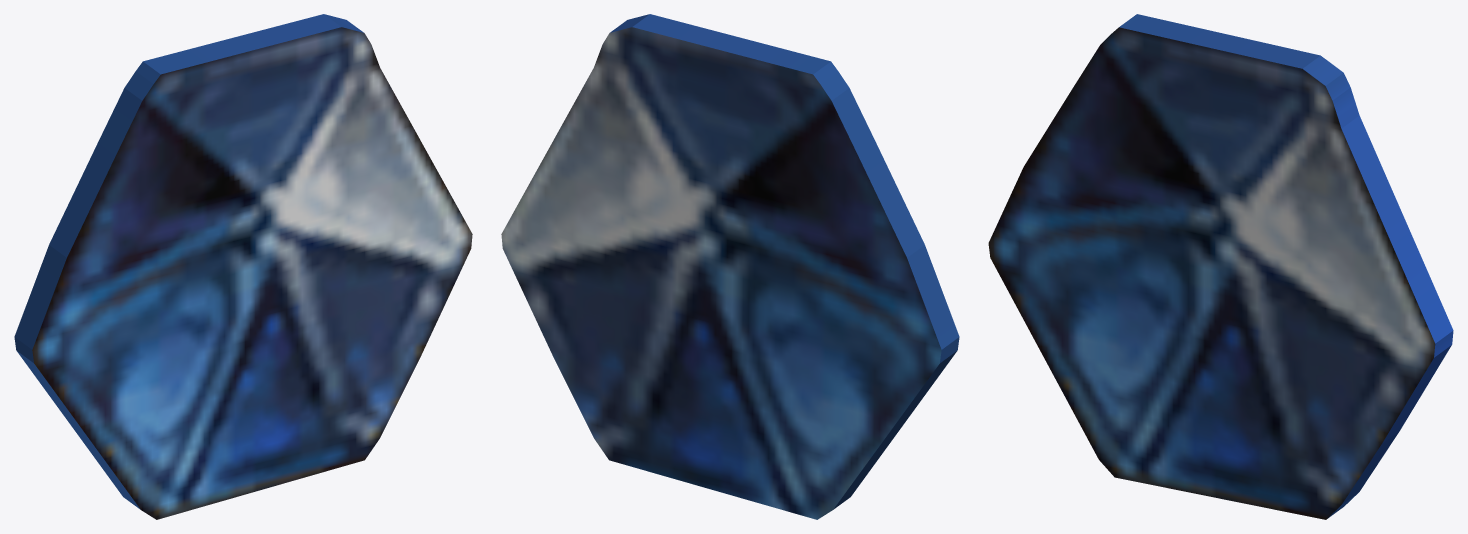
File: Mana.glb
3 renders of one model, left to right at view 1: azimuth 30°, elevation 25°; view 2: azimuth 150°, elevation 25°; view 3: azimuth 330°, elevation 25°, orthographic.
Parts seen in each view (by area): view 1: Circle.001; view 2: Circle.001; view 3: Circle.001.
Part boxes in pixels (x1,y1,x2,y2): Circle.001: (14,14,472,519); Circle.001: (501,14,959,519); Circle.001: (988,14,1453,519).
Bounding box in the file's own units: 1.7 × 1.65 × 0.12.
1 material, 1 textured.
